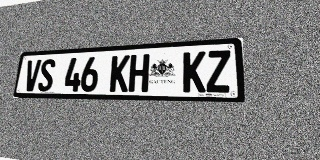4: (63, 57, 83, 92)
6: (80, 57, 100, 92)
H: (128, 54, 150, 92)
K: (183, 51, 206, 92), (109, 55, 130, 92)
S: (37, 59, 56, 91)
V: (23, 59, 41, 91)
Z: (206, 50, 231, 93)
